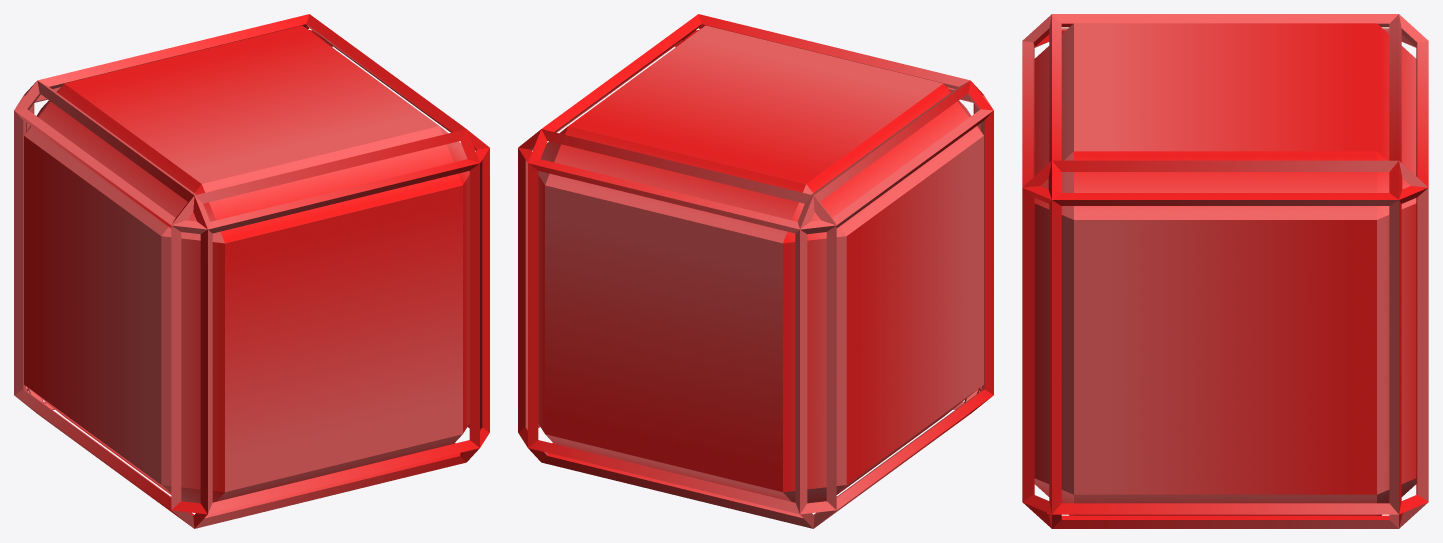
File: fullCube.obj
3 renders of one model, left to right at view 1: azimuth 30°, elevation 25°; view 2: azimuth 150°, elevation 25°; view 3: azimuth 270°, elevation 25°, orthographic. The views are drawn at different scales.
Parts seen in each view (by area): view 1: Cube.001, Cube; view 2: Cube.001, Cube; view 3: Cube.001, Cube.
Boxes of the visible parts, x1,y1,x2,y2 form: Cube.001: (24, 25, 469, 503); Cube: (14, 14, 489, 528); Cube.001: (538, 25, 983, 503); Cube: (518, 14, 993, 528); Cube.001: (1034, 23, 1416, 515); Cube: (1022, 14, 1428, 528).
Bounding box in the file's own units: 2 × 2 × 2.
